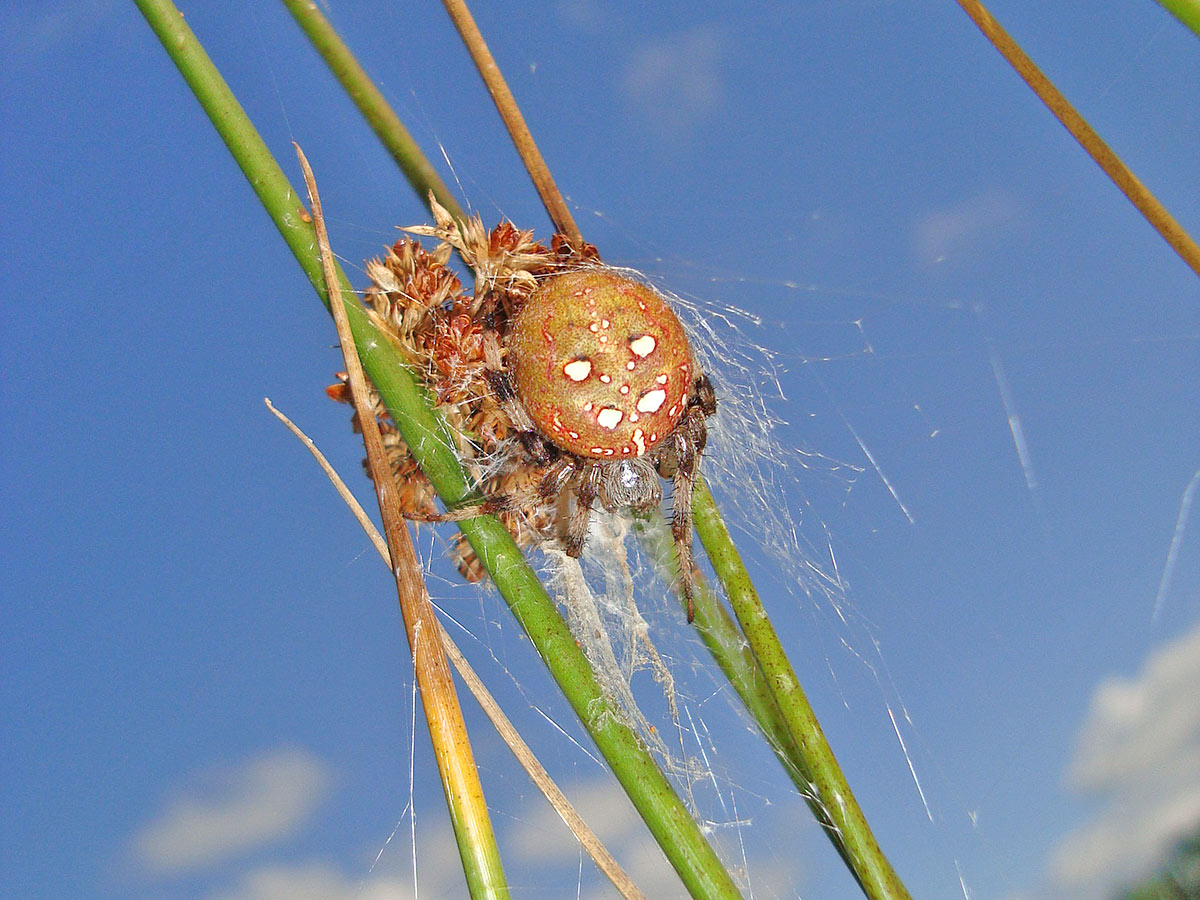spider: (434, 218, 744, 577)
